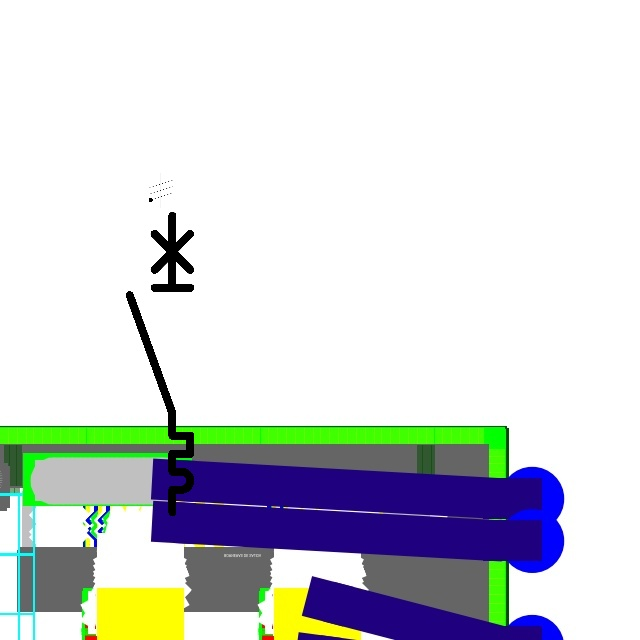interruptor_termomagnetico: (122, 208, 198, 520)
